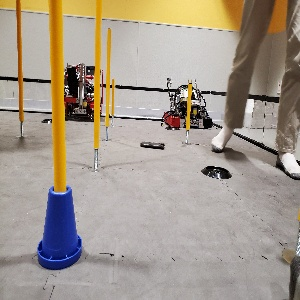Blue_1: (35, 184, 83, 270)
